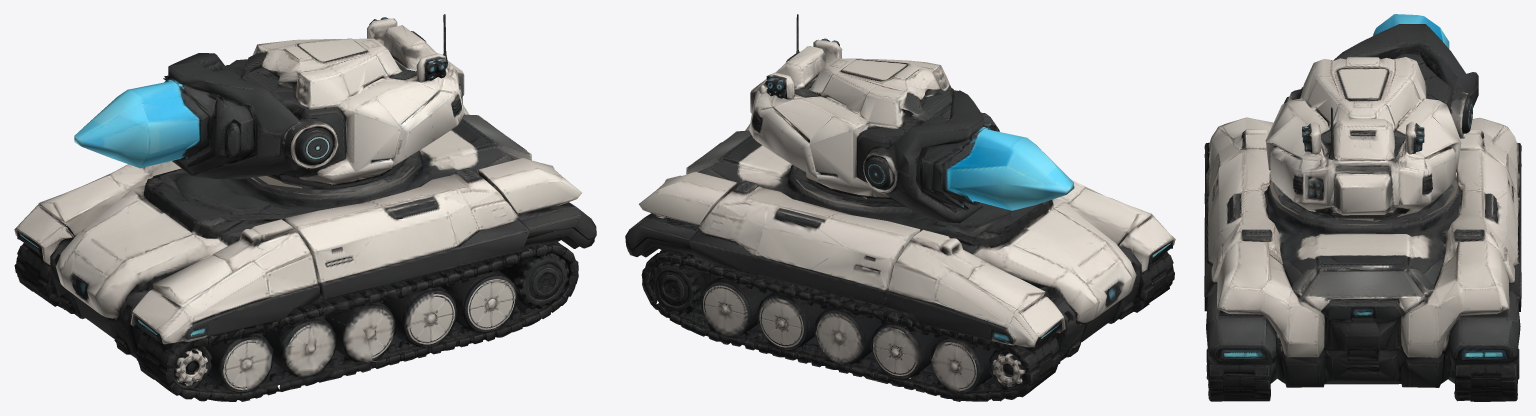
Rendered from refractor-tank.glb.
3 renders of one model, left to right at view 1: azimuth 30°, elevation 25°; view 2: azimuth 150°, elevation 25°; view 3: azimuth 270°, elevation 25°, orthographic. The views are drawn at different scales.
Visible parts, largest first — view 1: Hull, Emitter; view 2: Hull, Emitter; view 3: Hull, Emitter.
Part boxes in pixels (box(x1,y1,x2,y2)): Hull: box(14, 104, 596, 401); Emitter: box(74, 14, 464, 195); Hull: box(625, 110, 1175, 401); Emitter: box(749, 14, 1074, 223); Hull: box(1204, 117, 1521, 401); Emitter: box(1265, 14, 1478, 224).
Size of the model in its own units: 2 by 1.2 by 1.21.
Materials: 1 (1 with a texture image).
